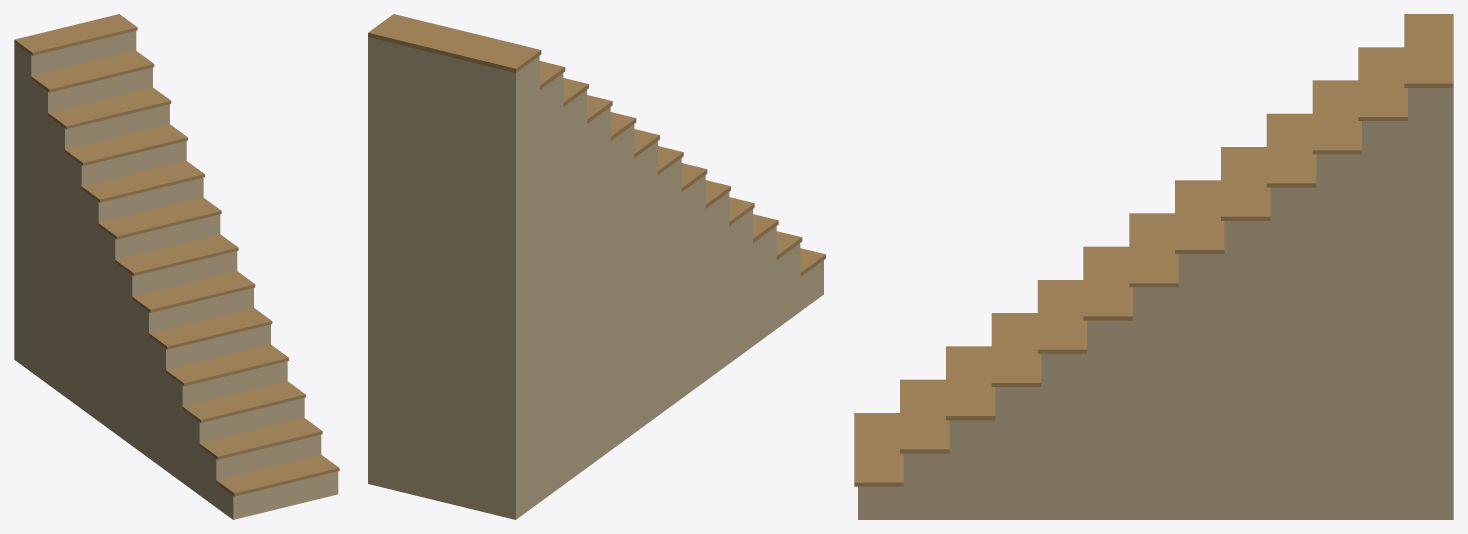
Rendered from stairs.glb.
3 renders of one model, left to right at view 1: azimuth 30°, elevation 25°; view 2: azimuth 150°, elevation 25°; view 3: azimuth 270°, elevation 25°, orthographic. The views are drawn at different scales.
Visible parts, largest first — view 1: stairs; view 2: stairs; view 3: stairs.
Part boxes in pixels (x1,y1,x2,y2): stairs: [14, 14, 339, 519]; stairs: [368, 14, 825, 519]; stairs: [854, 14, 1453, 519].
Bounding box in the file's own units: 0.9 × 2.62 × 3.27.
